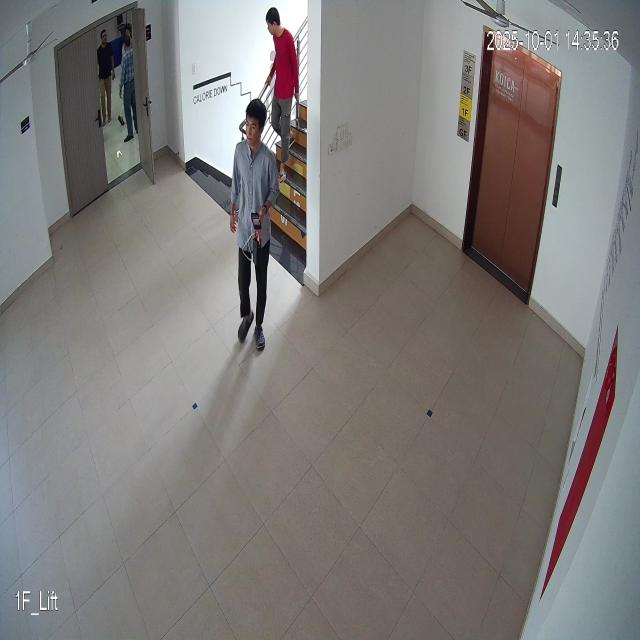face: (242, 93, 268, 149)
